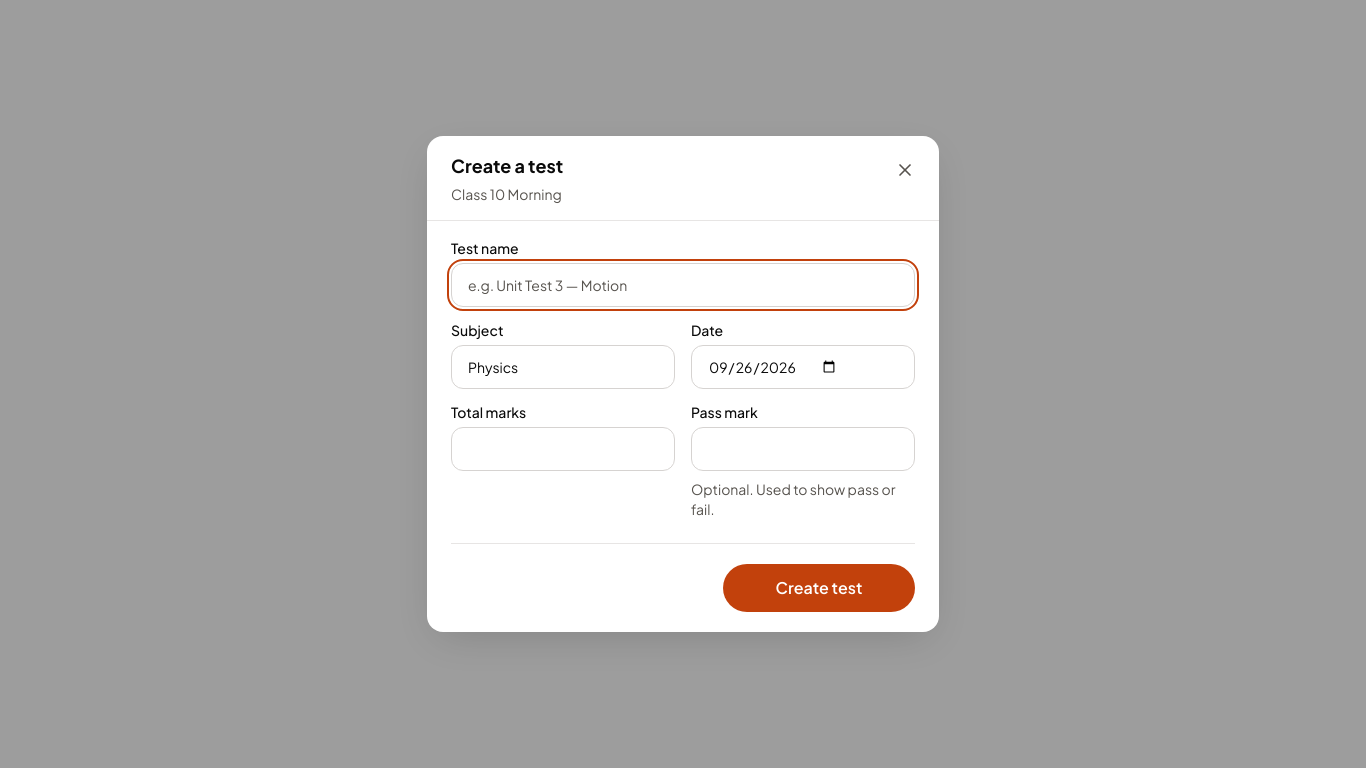
Test case: TestFormDialog › rejects a pass mark above the total
The width and height of the screenshot is (1366, 768).
Type "Quiz" into the field labelled "Test name" at coordinates (683, 285), box [451,263,915,307]
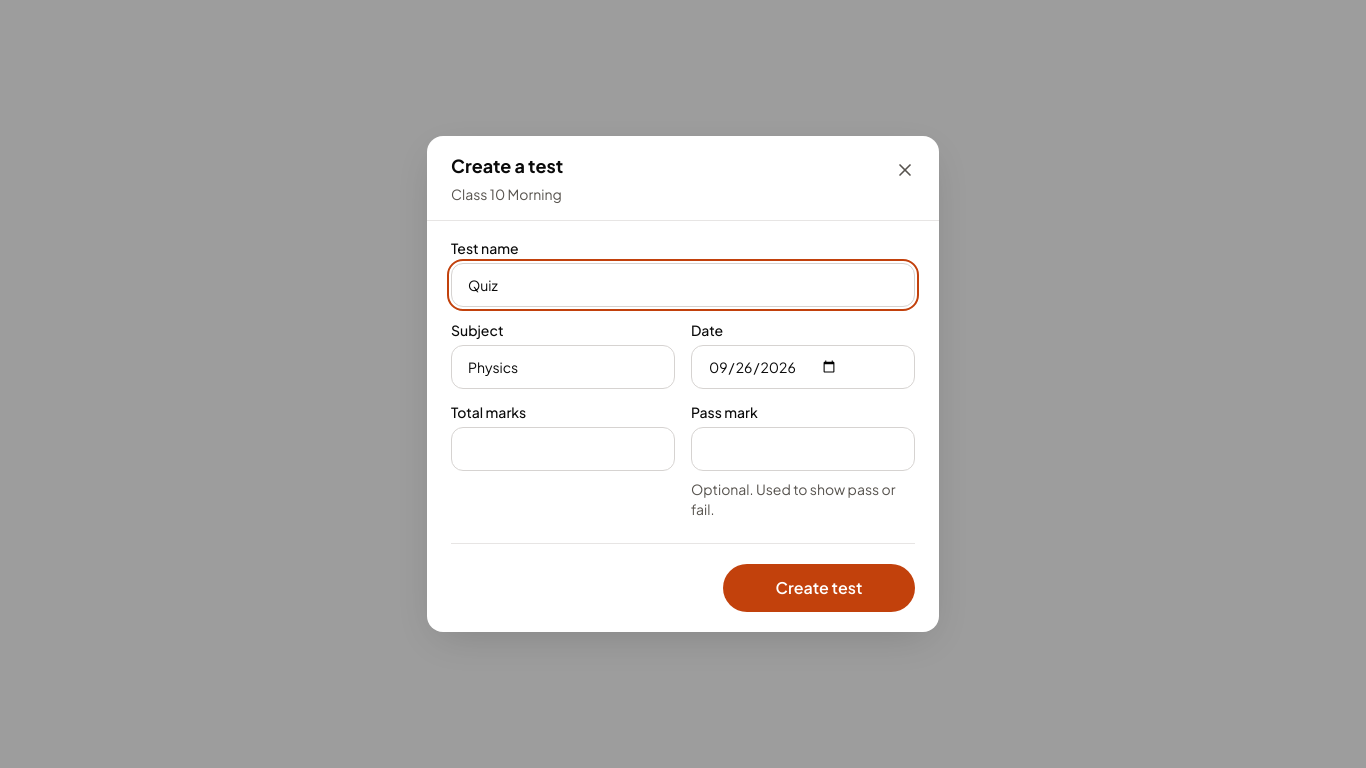
Type "20" into the field labelled "Total marks" at coordinates (563, 449), box [451,427,675,471]
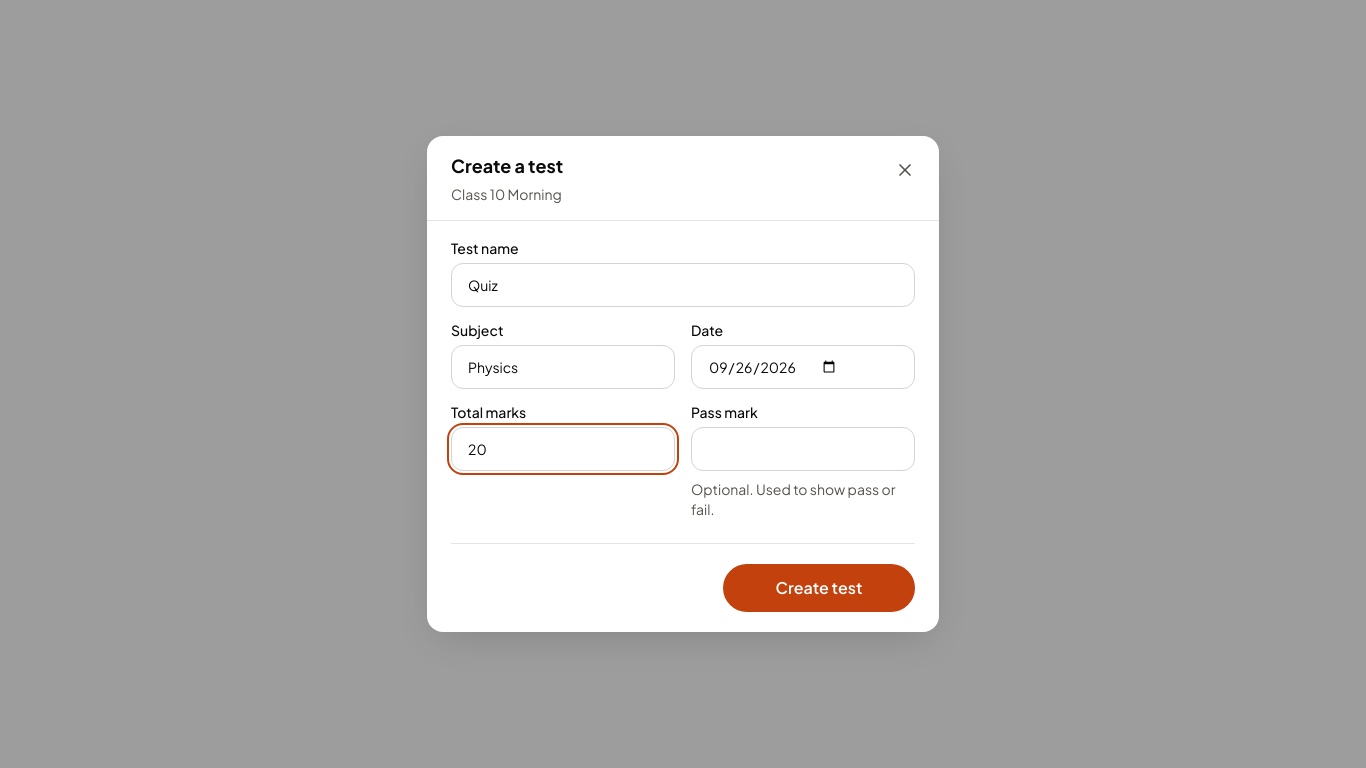
Type "25" into the field labelled "Pass mark" at coordinates (803, 449), box [691,427,915,471]
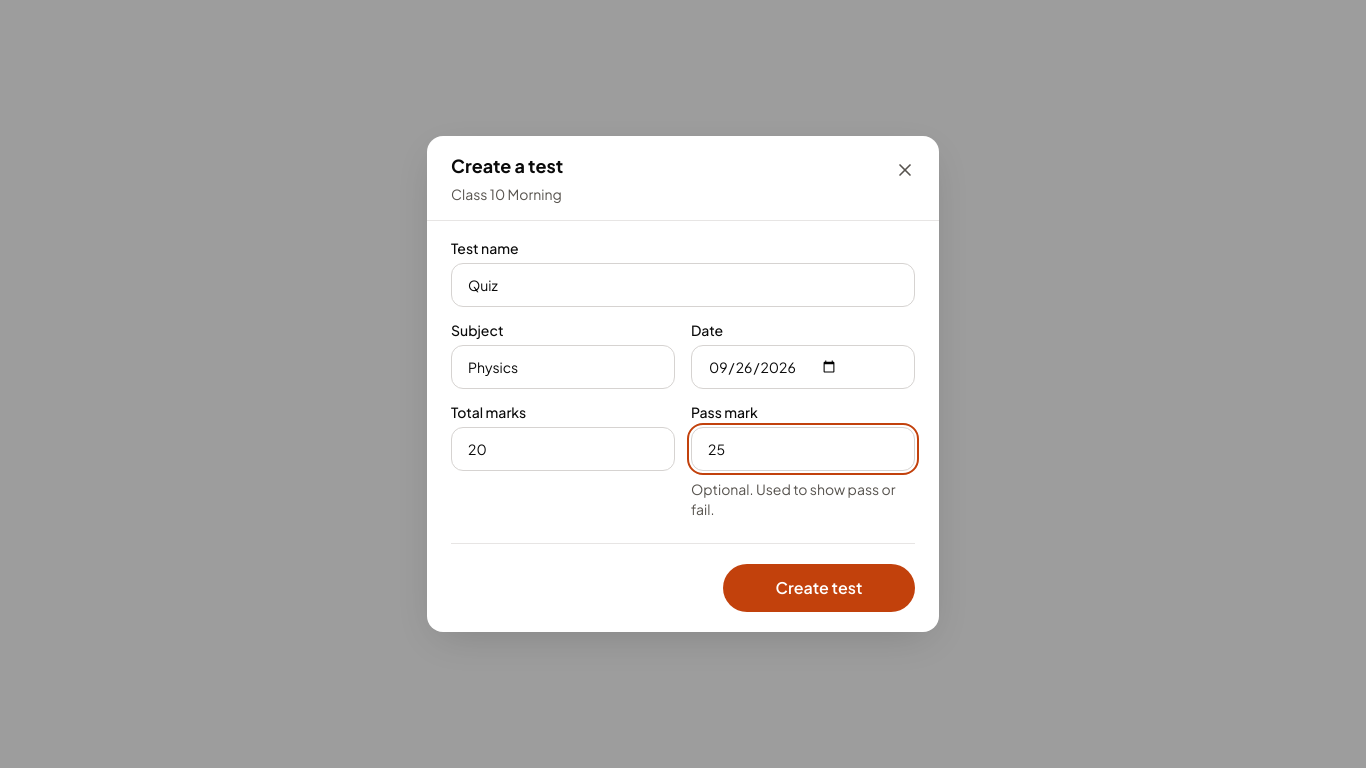
Click the button "Create test" at coordinates (819, 588), box [723,564,915,612]
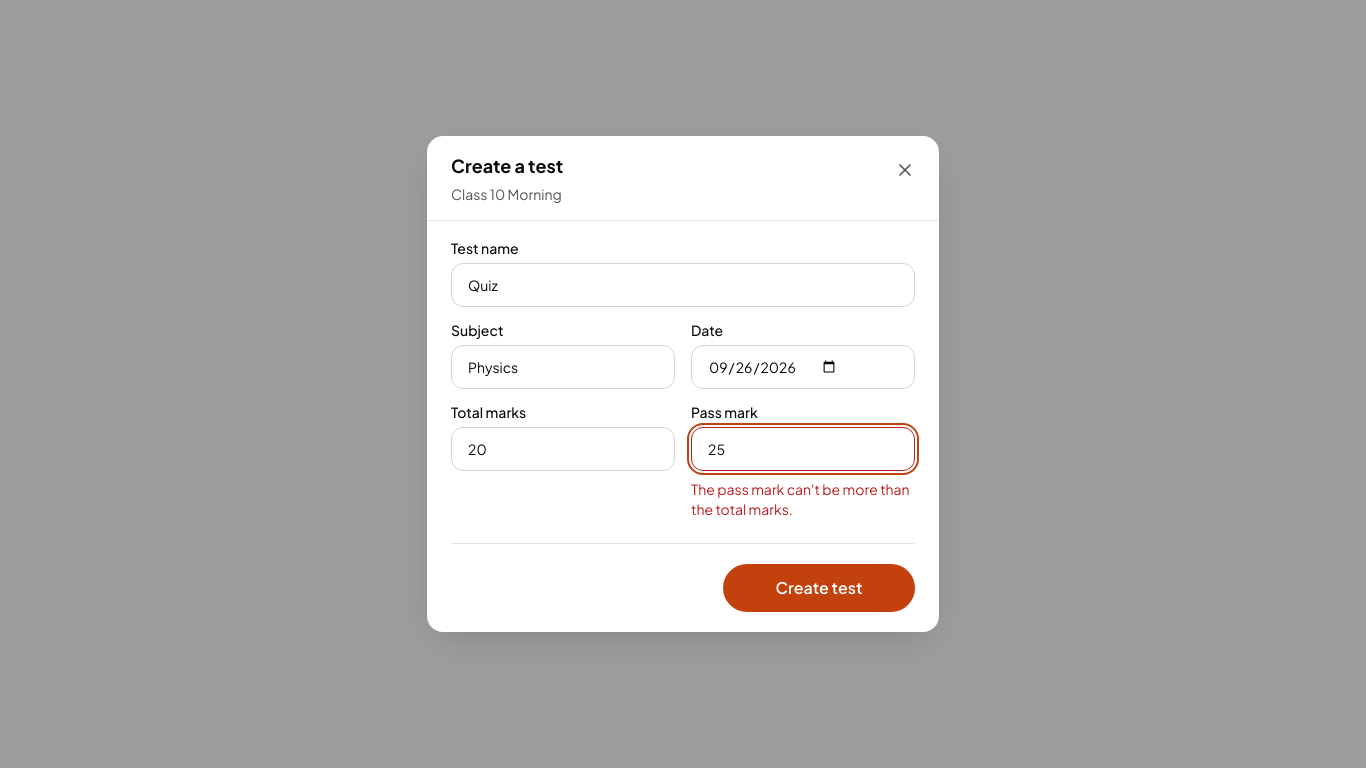
Expected: the text "The pass mark can't be more than the total marks." is shown, [691,479,915,519]
